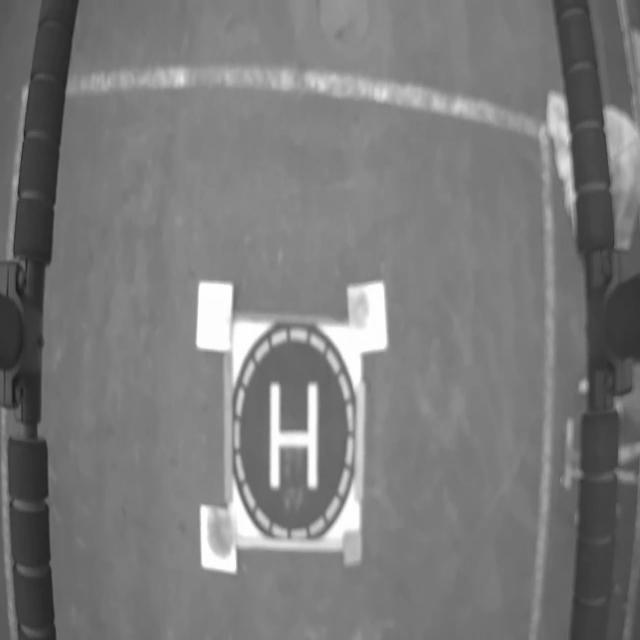Helipad: (269, 382, 319, 491)
